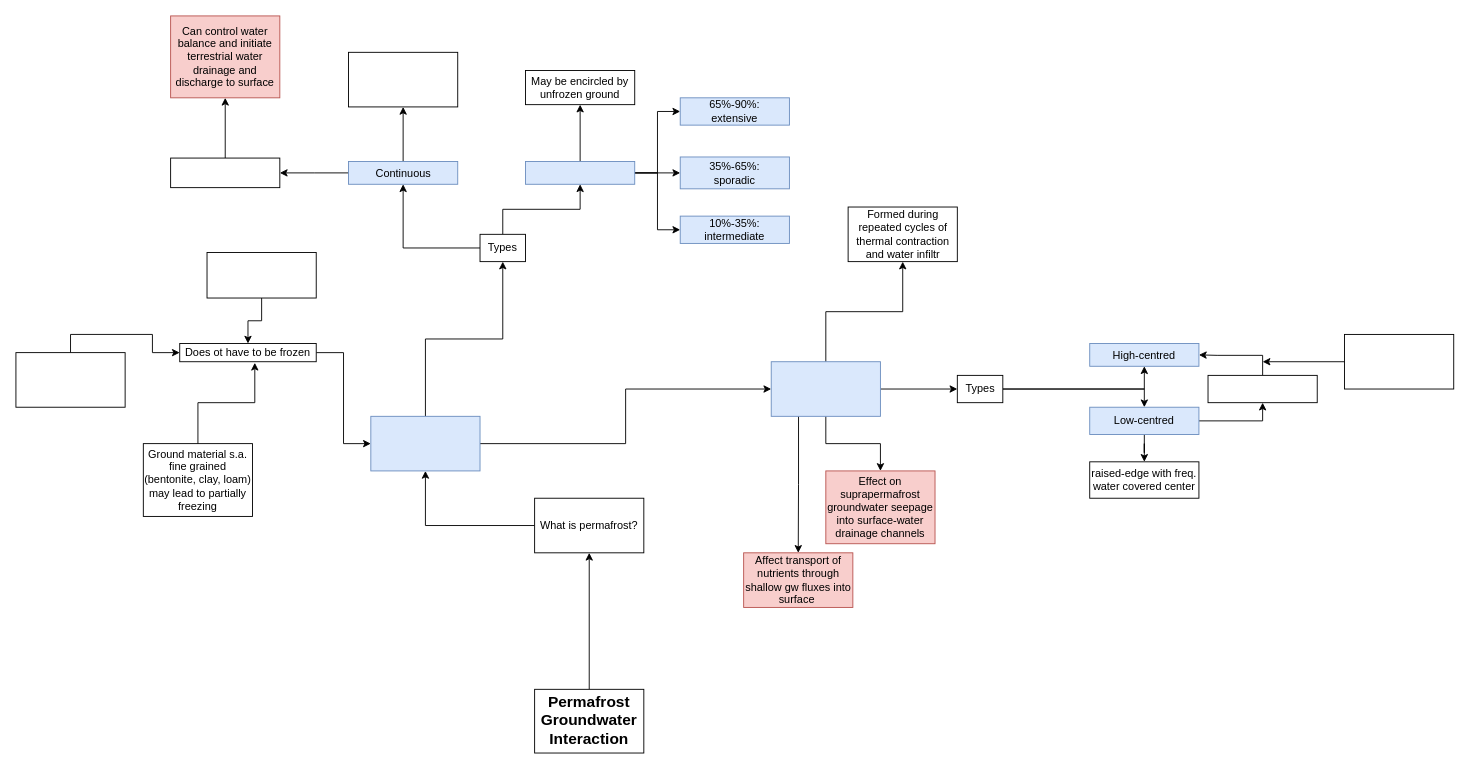
This 1470x769 diagram has some shape labels left out. The shapes that lost their labels are listed below. From the top down, each one's centre as x and y in pixels, then its label:
At (x=403, y=79): "Permafrost covers >90% of ground".
At (x=225, y=172): "Microtopography".
At (x=580, y=172): "Discontinuous".
At (x=261, y=275): "Pressure under glaciers: fluid water despite T<0 degC".
At (x=70, y=379): "Intrusion from salt water -> freezing temp lower than 0 degC".
At (x=1399, y=361): "causes severe changes in water-balance partitioning".
At (x=825, y=388): "Ice-wedge polygones".
At (x=1262, y=388): "Thermokarst process".
At (x=425, y=443): "Perennially frozen ground (soil/rock incl. ice and OM) with T~0 degC for >2 yr".
